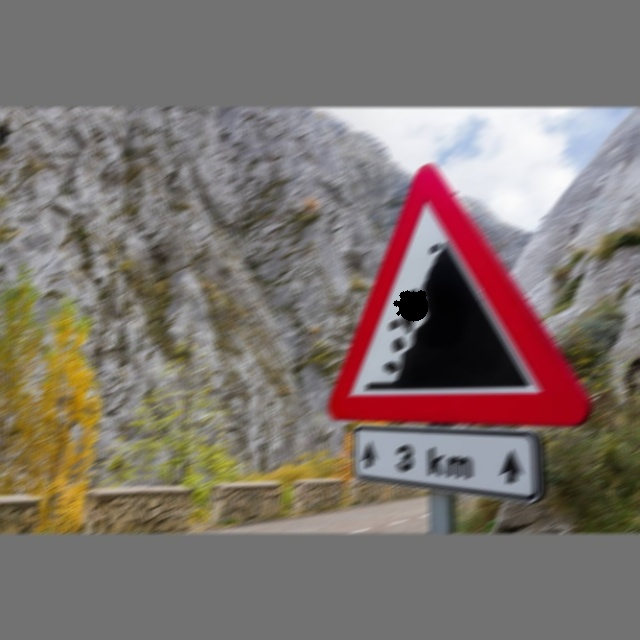Falling_Rocks: (322, 166, 585, 426)
